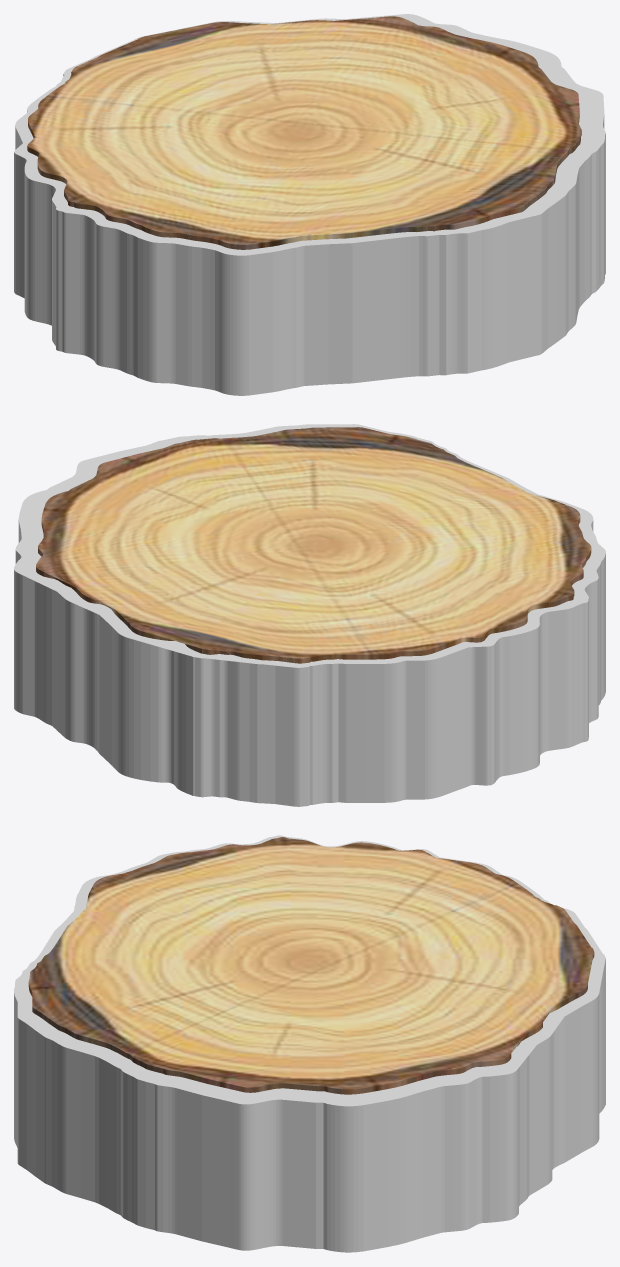
File: wood311.fbx
The picture shows the model from 3 angles, top to bottom: view 1: azimuth 30°, elevation 25°; view 2: azimuth 150°, elevation 25°; view 3: azimuth 270°, elevation 25°; orthographic projection. The views are drawn at different scales.
Visible parts, largest first — view 1: Шапка_1_2, Выдавливание_NURBS_1, Шапка_1, Выдавливание_NURBS; view 2: Шапка_1_2, Выдавливание_NURBS_1, Шапка_1, Выдавливание_NURBS; view 3: Шапка_1_2, Выдавливание_NURBS_1, Шапка_1, Выдавливание_NURBS.
Boxes of the visible parts, <box> form: Шапка_1_2: <box>27,16,581,244</box>; Выдавливание_NURBS_1: <box>14,66,605,395</box>; Шапка_1: <box>14,14,605,255</box>; Выдавливание_NURBS: <box>27,66,581,249</box>; Шапка_1_2: <box>36,427,591,658</box>; Выдавливание_NURBS_1: <box>14,520,605,806</box>; Шапка_1: <box>14,424,605,667</box>; Выдавливание_NURBS: <box>36,517,591,663</box>; Шапка_1_2: <box>28,837,594,1089</box>; Выдавливание_NURBS_1: <box>14,959,605,1252</box>; Шапка_1: <box>14,835,605,1106</box>; Выдавливание_NURBS: <box>28,952,594,1094</box>.
Size of the model in its own units: 1460 by 380 by 1348.
Materials: 2 (2 with a texture image).
